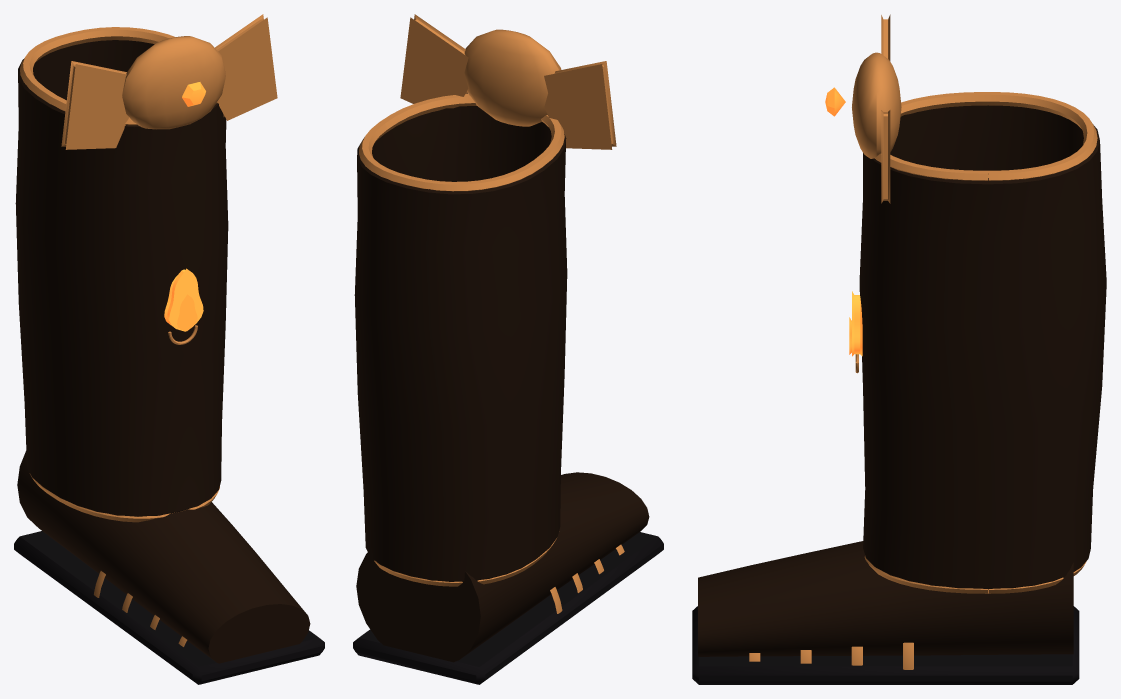
The model's file is asc_ashborn_archmage_boots.glb.
The picture shows the model from 3 angles, left to right: view 1: azimuth 30°, elevation 25°; view 2: azimuth 150°, elevation 25°; view 3: azimuth 270°, elevation 25°; orthographic projection. The views are drawn at different scales.
Visible parts, largest first — view 1: asc_ashborn_archmage_boots, AT_foot_L; view 2: asc_ashborn_archmage_boots, AT_foot_L; view 3: asc_ashborn_archmage_boots, AT_foot_L.
Part boxes in pixels (bbox=[...]): asc_ashborn_archmage_boots: bbox=[15, 14, 277, 522]; AT_foot_L: bbox=[14, 451, 324, 684]; asc_ashborn_archmage_boots: bbox=[354, 14, 616, 586]; AT_foot_L: bbox=[353, 472, 663, 684]; asc_ashborn_archmage_boots: bbox=[825, 14, 1106, 593]; AT_foot_L: bbox=[692, 541, 1079, 684].
Size of the model in its own units: 0.2244 by 0.5768 by 0.3641.
